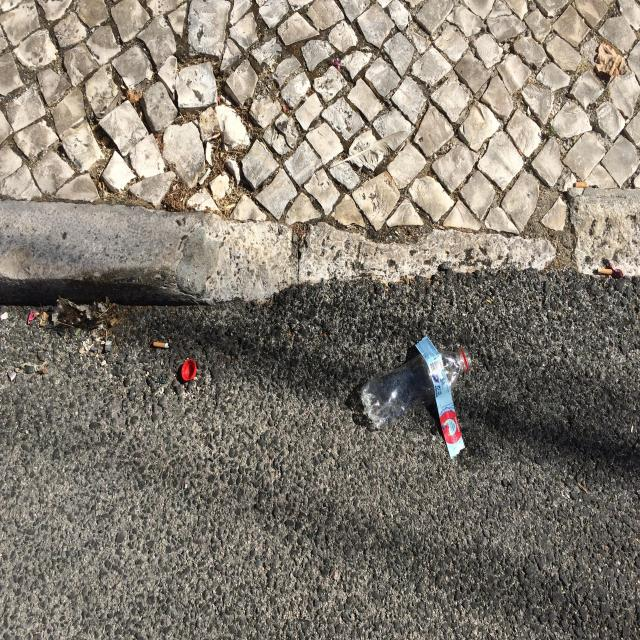bottle: (357, 332, 481, 462)
